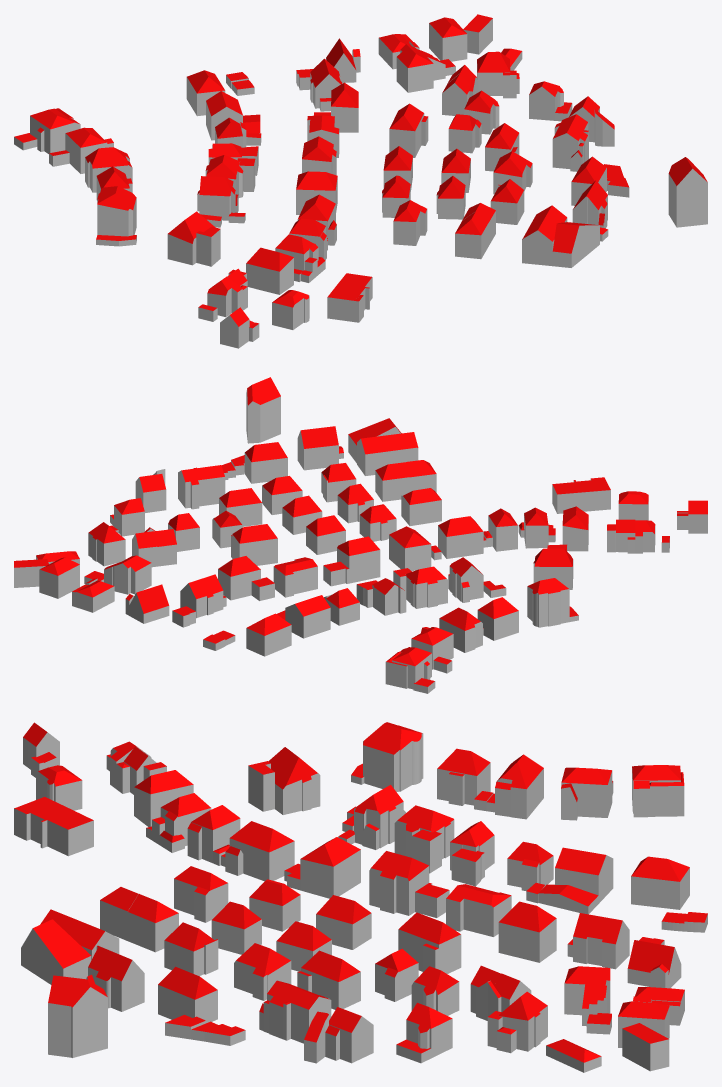
3 views of the same model, one above another, from view 1: azimuth 30°, elevation 25°; view 2: azimuth 150°, elevation 25°; view 3: azimuth 270°, elevation 25° (orthographic). The views are drawn at different scales.
Bounding box in the file's own units: 205 × 21.72 × 192.
